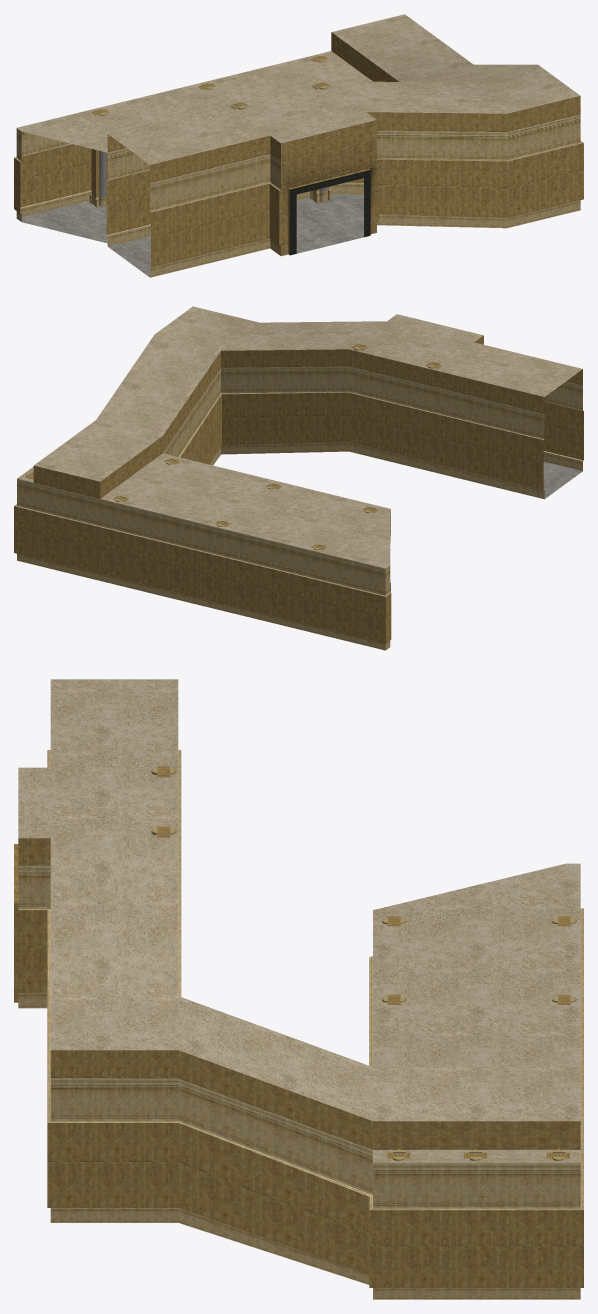
File: thm_nboo_thed_hangar_r4_hall2_mesh_r4.fbx
3 views of the same model, one above another, from view 1: azimuth 30°, elevation 25°; view 2: azimuth 150°, elevation 25°; view 3: azimuth 270°, elevation 25° (orthographic). The views are drawn at different scales.
Parts seen in each view (by area): view 1: mesh_node; view 2: mesh_node; view 3: mesh_node.
Part boxes in pixels (bbox=[...]): mesh_node: bbox=[14, 14, 583, 277]; mesh_node: bbox=[14, 306, 583, 650]; mesh_node: bbox=[14, 679, 583, 1299].
Size of the model in its own units: 42.99 by 17.72 by 31.19.
